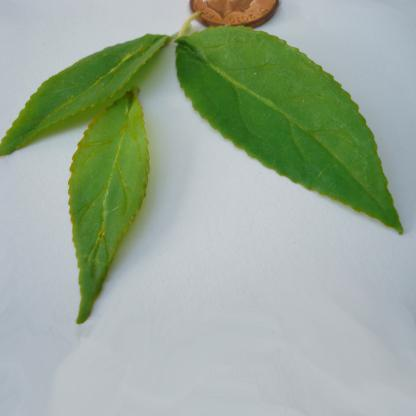peach leaf: (170, 20, 415, 237), (60, 76, 152, 334), (1, 20, 173, 155)
